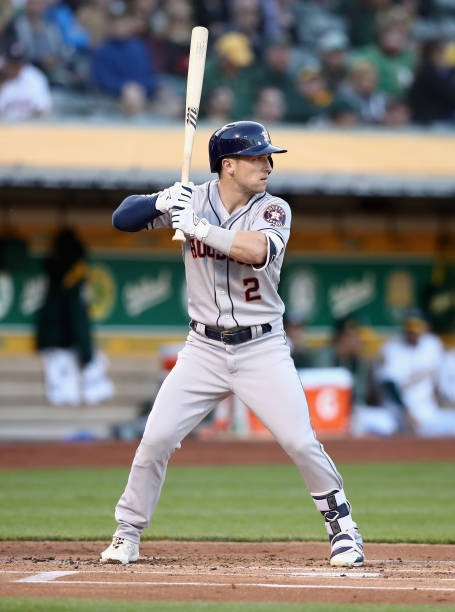bita: (176, 27, 210, 243)
